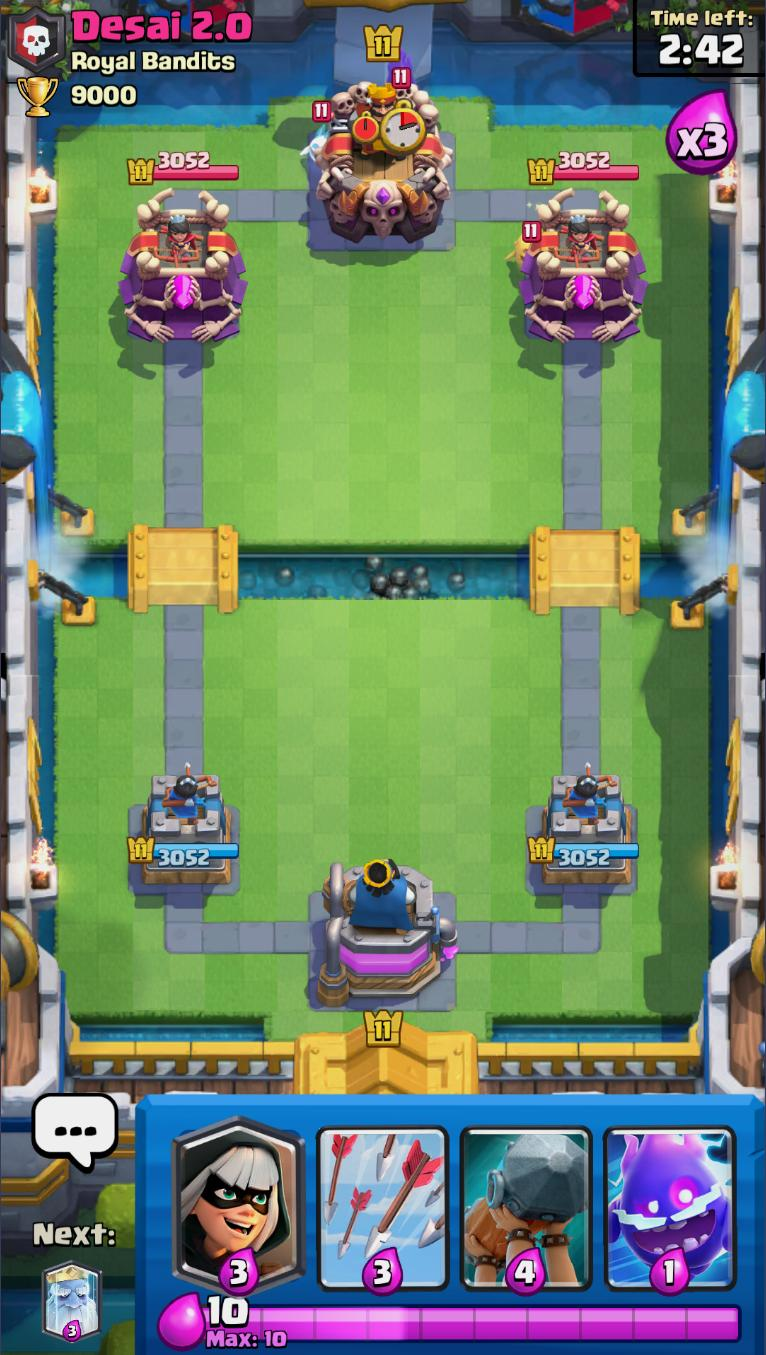ArrowDeck: (309, 1097, 456, 1292)
BanditDeck: (167, 1097, 312, 1294)
BattleRamDeck: (455, 1099, 598, 1296)
ElectroSpiritDeck: (597, 1098, 743, 1298)
Elixir: (204, 1290, 254, 1330)
EnemyTower: (113, 184, 254, 348), (518, 188, 650, 346)
HealSpirit: (508, 224, 540, 275)
IceSpirit: (296, 101, 331, 164)
KingTower: (309, 79, 459, 248)
MyKingTower: (310, 855, 463, 1018)
MyPrincessTower: (131, 761, 240, 893), (533, 771, 641, 893)
MyPrincessTowerHP: (526, 834, 640, 869), (125, 834, 240, 868)
PrincessTower: (153, 210, 212, 267), (552, 212, 607, 265)
RoyaleGhostNext: (41, 1256, 103, 1343)
TowerPrincessHP: (126, 149, 240, 188), (525, 150, 641, 188)
